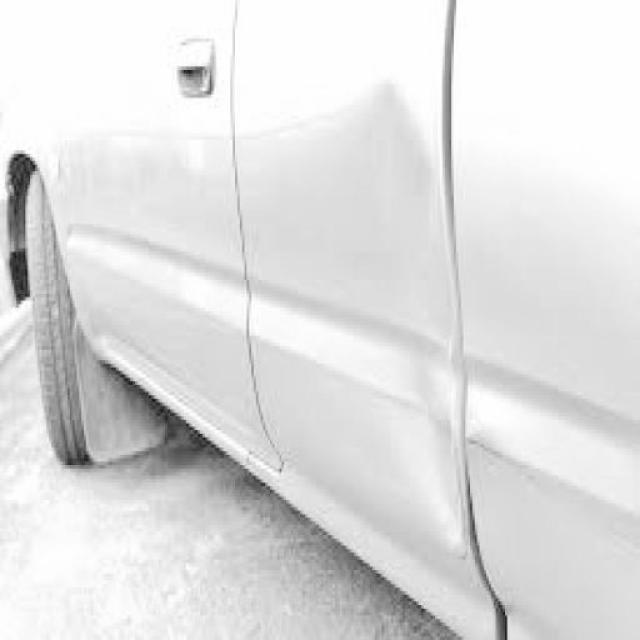car damage: (344, 61, 480, 563)
